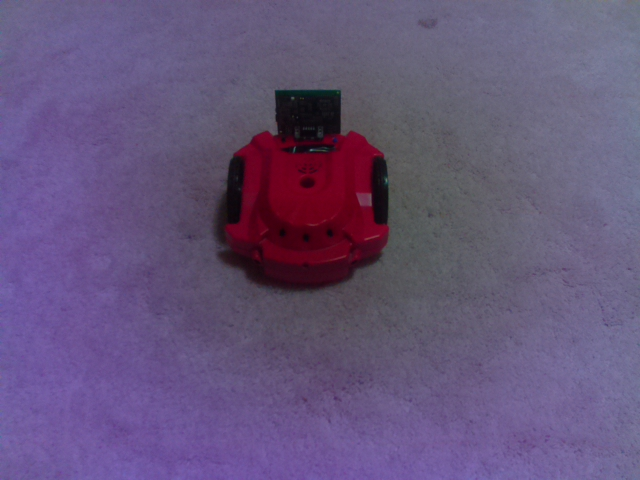chassis: (222, 86, 393, 288)
